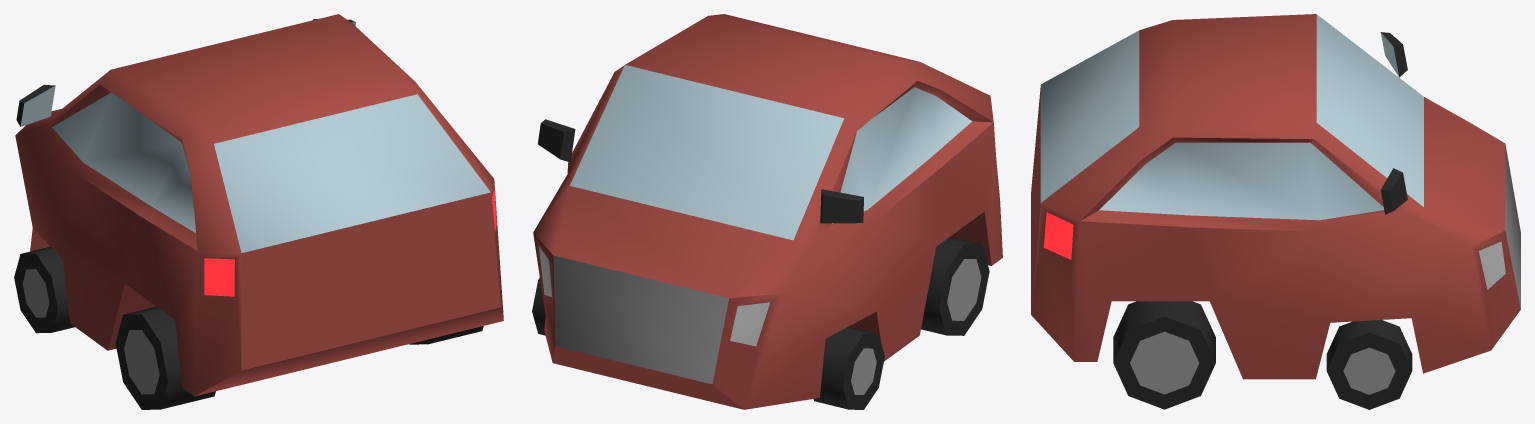
File: car_small.fbx
3 views of the same model, side by side, from view 1: azimuth 30°, elevation 25°; view 2: azimuth 150°, elevation 25°; view 3: azimuth 270°, elevation 25° (orthographic). The views are drawn at different scales.
Visible parts, largest first — view 1: coche; view 2: coche; view 3: coche.
Boxes of the visible parts, x1,y1,x2,y2 form: coche: (14,14,503,409); coche: (532,14,1002,409); coche: (1031,14,1520,409).
Bounding box in the file's own units: 0.2415 × 0.1876 × 0.3143.
